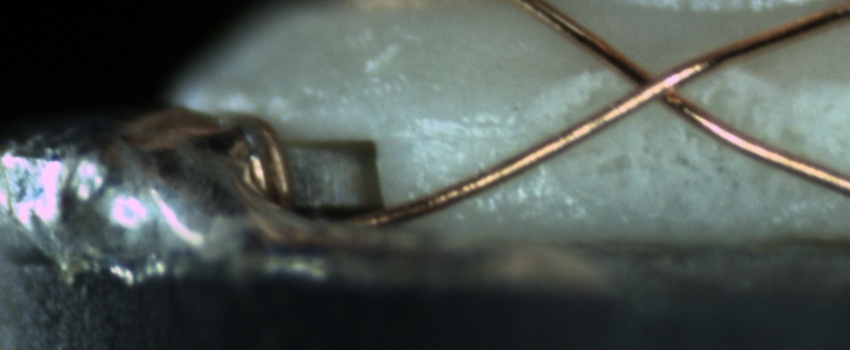CL: (608, 48, 705, 119)
DL: (401, 106, 529, 167)
TE: (213, 103, 302, 224)
